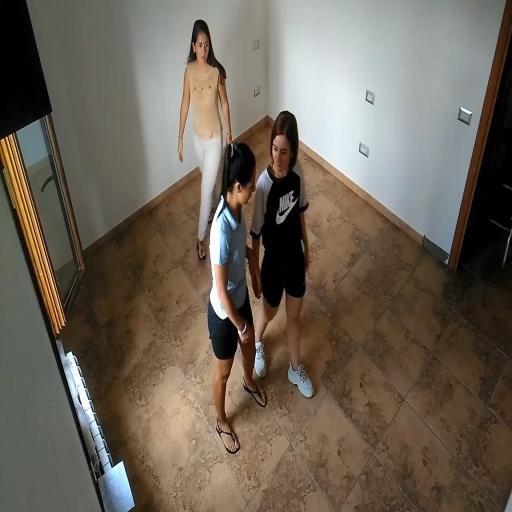nao-violencia: (194, 102, 333, 462)
